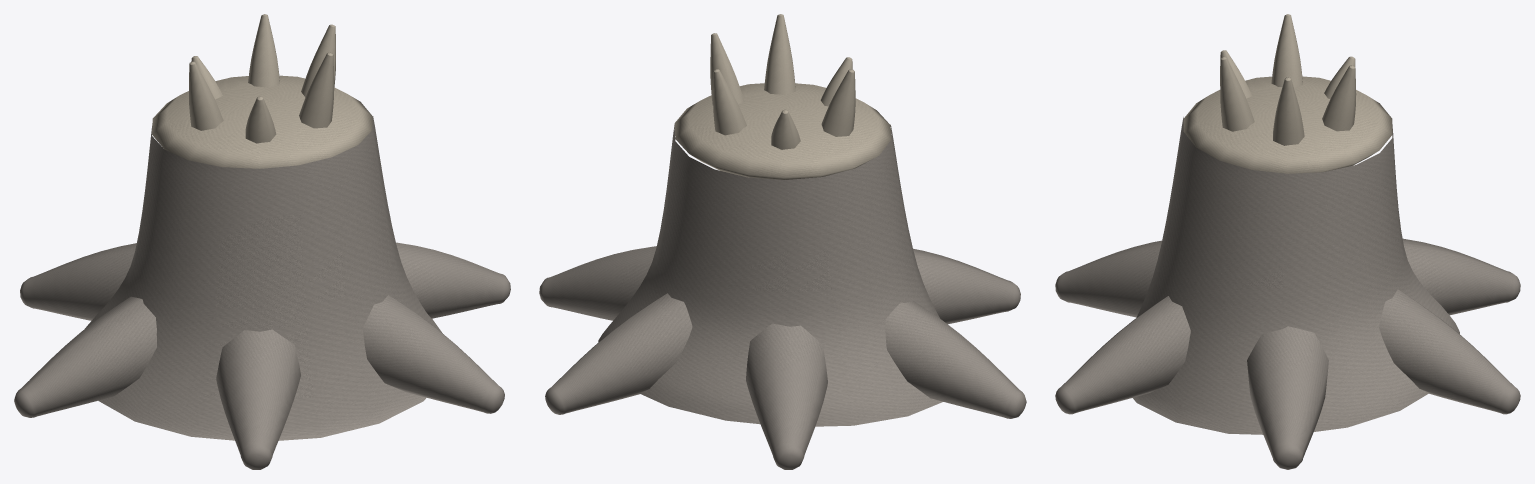
File: exotic-wildlife-hd-tree-stump-a0baa48d__30232.glb
3 renders of one model, left to right at view 1: azimuth 30°, elevation 25°; view 2: azimuth 150°, elevation 25°; view 3: azimuth 270°, elevation 25°, orthographic.
Parts seen in each view (by area): view 1: tree-stump; view 2: tree-stump; view 3: tree-stump.
Boxes of the visible parts, left/top/right/bottom form: tree-stump: left=14, top=14, right=510, bottom=469; tree-stump: left=539, top=14, right=1026, bottom=469; tree-stump: left=1055, top=14, right=1520, bottom=469.
Size of the model in its own units: 2.1 by 1.35 by 1.76.
Materials: 2 (2 with a texture image).
